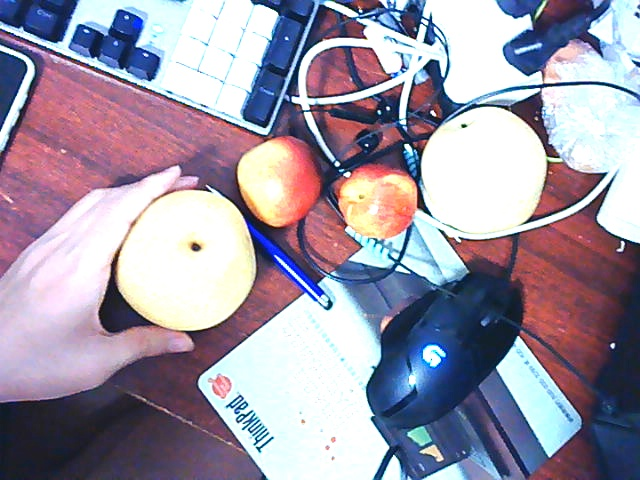peach: (237, 137, 321, 224), (341, 165, 416, 239)
pear: (117, 187, 252, 326), (418, 110, 549, 234)
